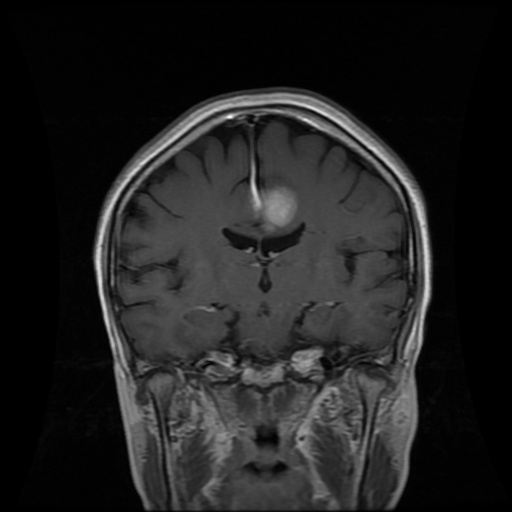meningioma: (258, 186, 297, 227)
